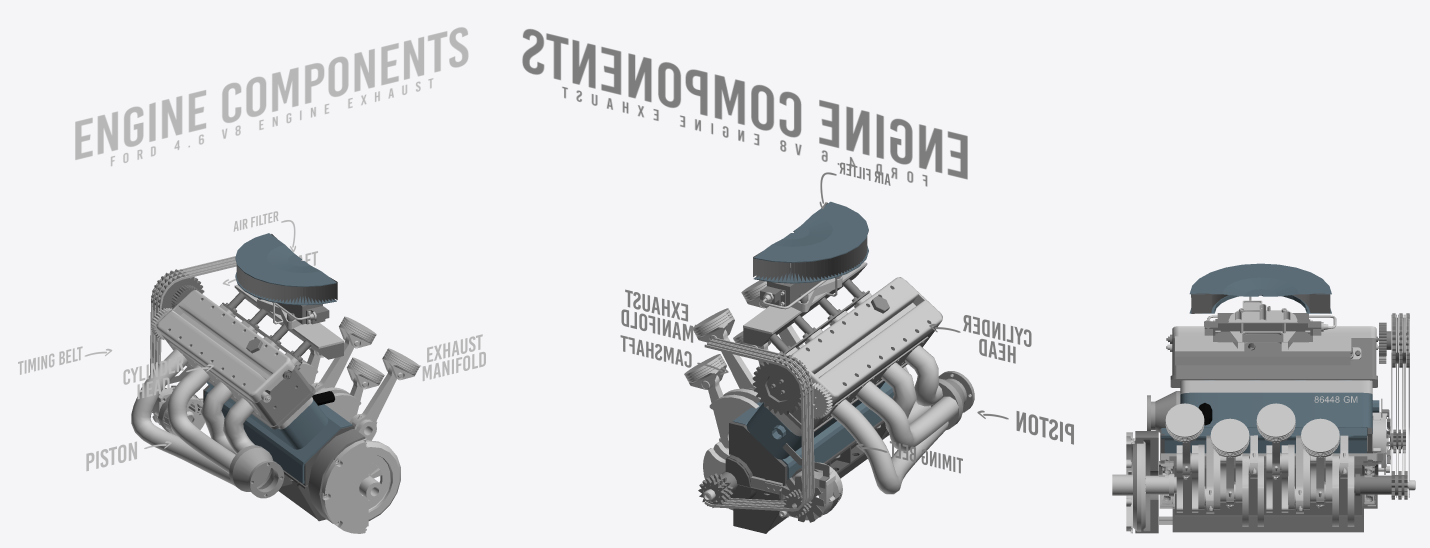
File: Sceen 07 Motor.glb
3 views of the same model, side by side, from view 1: azimuth 30°, elevation 25°; view 2: azimuth 150°, elevation 25°; view 3: azimuth 270°, elevation 25° (orthographic). The views are drawn at different scales.
Parts seen in each view (by area): view 1: Plane030, ChamferBox018, Line756, Top Cap air filter007, Tube 068, Line751, Tube 067, Rectangle199, Cone 015, Line759, Rectangle178, Tube221 (+16 smaller); view 2: Plane030, ChamferBox018, Top Cap air filter007, Tube 068, Tube 067, Line751, Line754, Rectangle178, Star183, Plane025, Tube 066, Plane027 (+20 smaller); view 3: Line747, Rectangle178, Rectangle199, Group188, Top Cap air filter007, Group200, Line775, Line771, Rectangle176, Box055, Line751, Tube221 (+22 smaller).
Part boxes in pixels (<box>): Plane030: <box>75,27,468,166</box>; ChamferBox018: <box>156,290,294,402</box>; Line756: <box>322,439,368,533</box>; Top Cap air filter007: <box>235,233,336,287</box>; Tube 068: <box>131,348,233,485</box>; Line751: <box>204,387,352,483</box>; Tube 067: <box>167,365,235,473</box>; Rectangle199: <box>161,334,315,429</box>; Cone 015: <box>229,445,284,498</box>; Line759: <box>325,440,400,520</box>; Rectangle178: <box>207,381,328,449</box>; Tube221: <box>308,429,365,523</box>; Plane030: <box>522,29,967,186</box>; ChamferBox018: <box>791,277,942,403</box>; Top Cap air filter007: <box>753,201,868,262</box>; Tube 068: <box>831,399,948,494</box>; Tube 067: <box>855,381,958,451</box>; Line751: <box>732,382,893,479</box>; Line754: <box>729,421,787,485</box>; Rectangle178: <box>746,381,884,459</box>; Star183: <box>752,359,804,414</box>; Plane025: <box>621,289,695,342</box>; Tube 066: <box>905,345,942,406</box>; Plane027: <box>929,315,1031,363</box>; Line747: <box>1174,465,1361,532</box>; Rectangle178: <box>1180,392,1372,435</box>; Rectangle199: <box>1170,338,1377,387</box>; Group188: <box>1198,444,1354,526</box>; Top Cap air filter007: <box>1189,263,1331,296</box>; Group200: <box>1176,445,1332,512</box>; Line775: <box>1175,343,1350,365</box>; Line771: <box>1180,380,1372,394</box>; Rectangle176: <box>1175,336,1351,351</box>; Box055: <box>1217,313,1308,342</box>; Line751: <box>1161,427,1367,453</box>; Tube221: <box>1135,431,1158,533</box>.
Size of the model in its own units: 0.0326 by 0.0274 by 0.0182.
18 materials, 7 textured.
